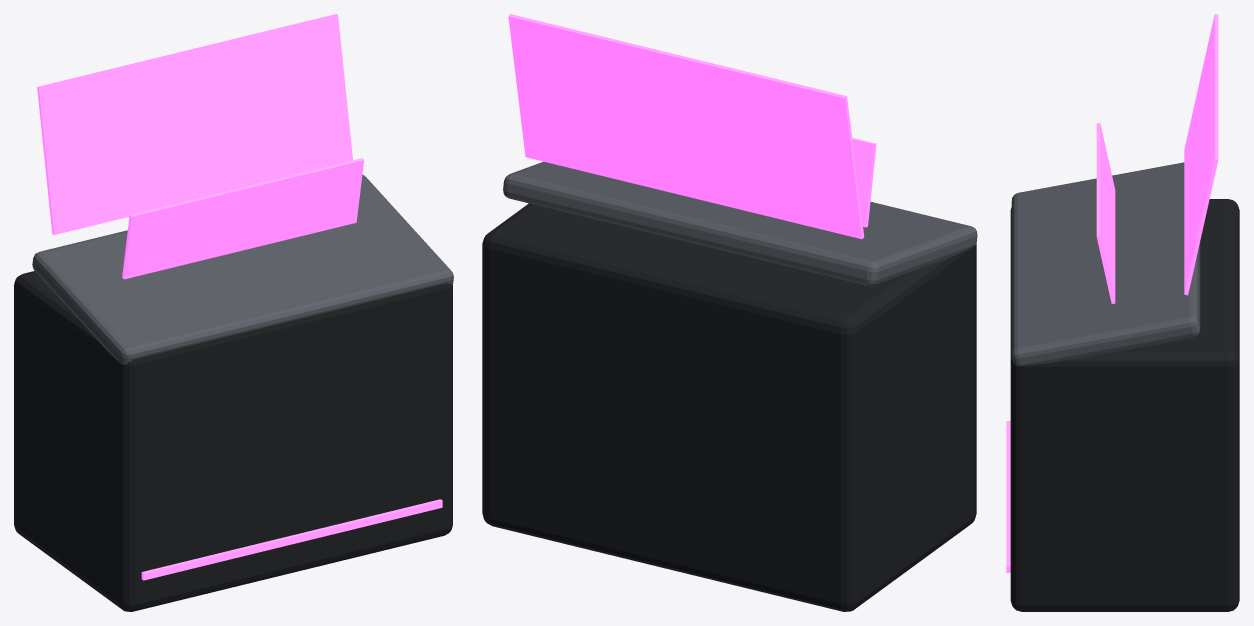
Rendered from terminal_kiosk_hack_deck.glb.
The picture shows the model from 3 angles, left to right: view 1: azimuth 30°, elevation 25°; view 2: azimuth 150°, elevation 25°; view 3: azimuth 270°, elevation 25°; orthographic projection. The views are drawn at different scales.
Parts seen in each view (by area): view 1: GD_terminal_kiosk_hack_deck__m0, GD_terminal_kiosk_hack_deck__m2, GD_terminal_kiosk_hack_deck__m1, GD_terminal_kiosk_hack_deck__m3; view 2: GD_terminal_kiosk_hack_deck__m0, GD_terminal_kiosk_hack_deck__m2, GD_terminal_kiosk_hack_deck__m1, GD_terminal_kiosk_hack_deck__m3; view 3: GD_terminal_kiosk_hack_deck__m0, GD_terminal_kiosk_hack_deck__m1, GD_terminal_kiosk_hack_deck__m2, GD_terminal_kiosk_hack_deck__m3.
Part boxes in pixels (box(x1,y1,x2,y2)): GD_terminal_kiosk_hack_deck__m0: box(14, 271, 452, 611); GD_terminal_kiosk_hack_deck__m2: box(37, 14, 352, 234); GD_terminal_kiosk_hack_deck__m1: box(32, 174, 453, 364); GD_terminal_kiosk_hack_deck__m3: box(122, 158, 442, 580); GD_terminal_kiosk_hack_deck__m0: box(482, 203, 976, 611); GD_terminal_kiosk_hack_deck__m2: box(508, 14, 864, 239); GD_terminal_kiosk_hack_deck__m1: box(503, 161, 977, 286); GD_terminal_kiosk_hack_deck__m3: box(852, 138, 876, 227); GD_terminal_kiosk_hack_deck__m0: box(1010, 199, 1239, 611); GD_terminal_kiosk_hack_deck__m1: box(1011, 162, 1200, 366); GD_terminal_kiosk_hack_deck__m2: box(1184, 14, 1218, 295); GD_terminal_kiosk_hack_deck__m3: box(1006, 123, 1115, 572).
Size of the model in its own units: 1 by 1.3 by 0.611.
